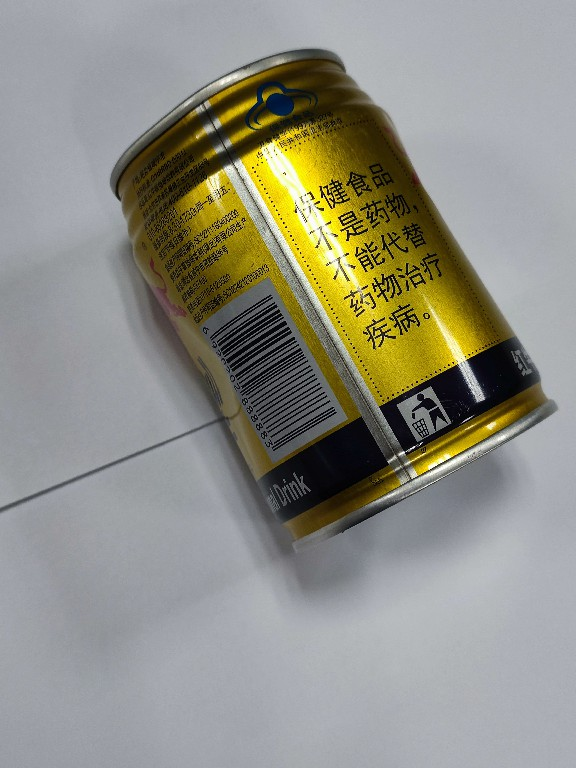can: (108, 46, 564, 564)
